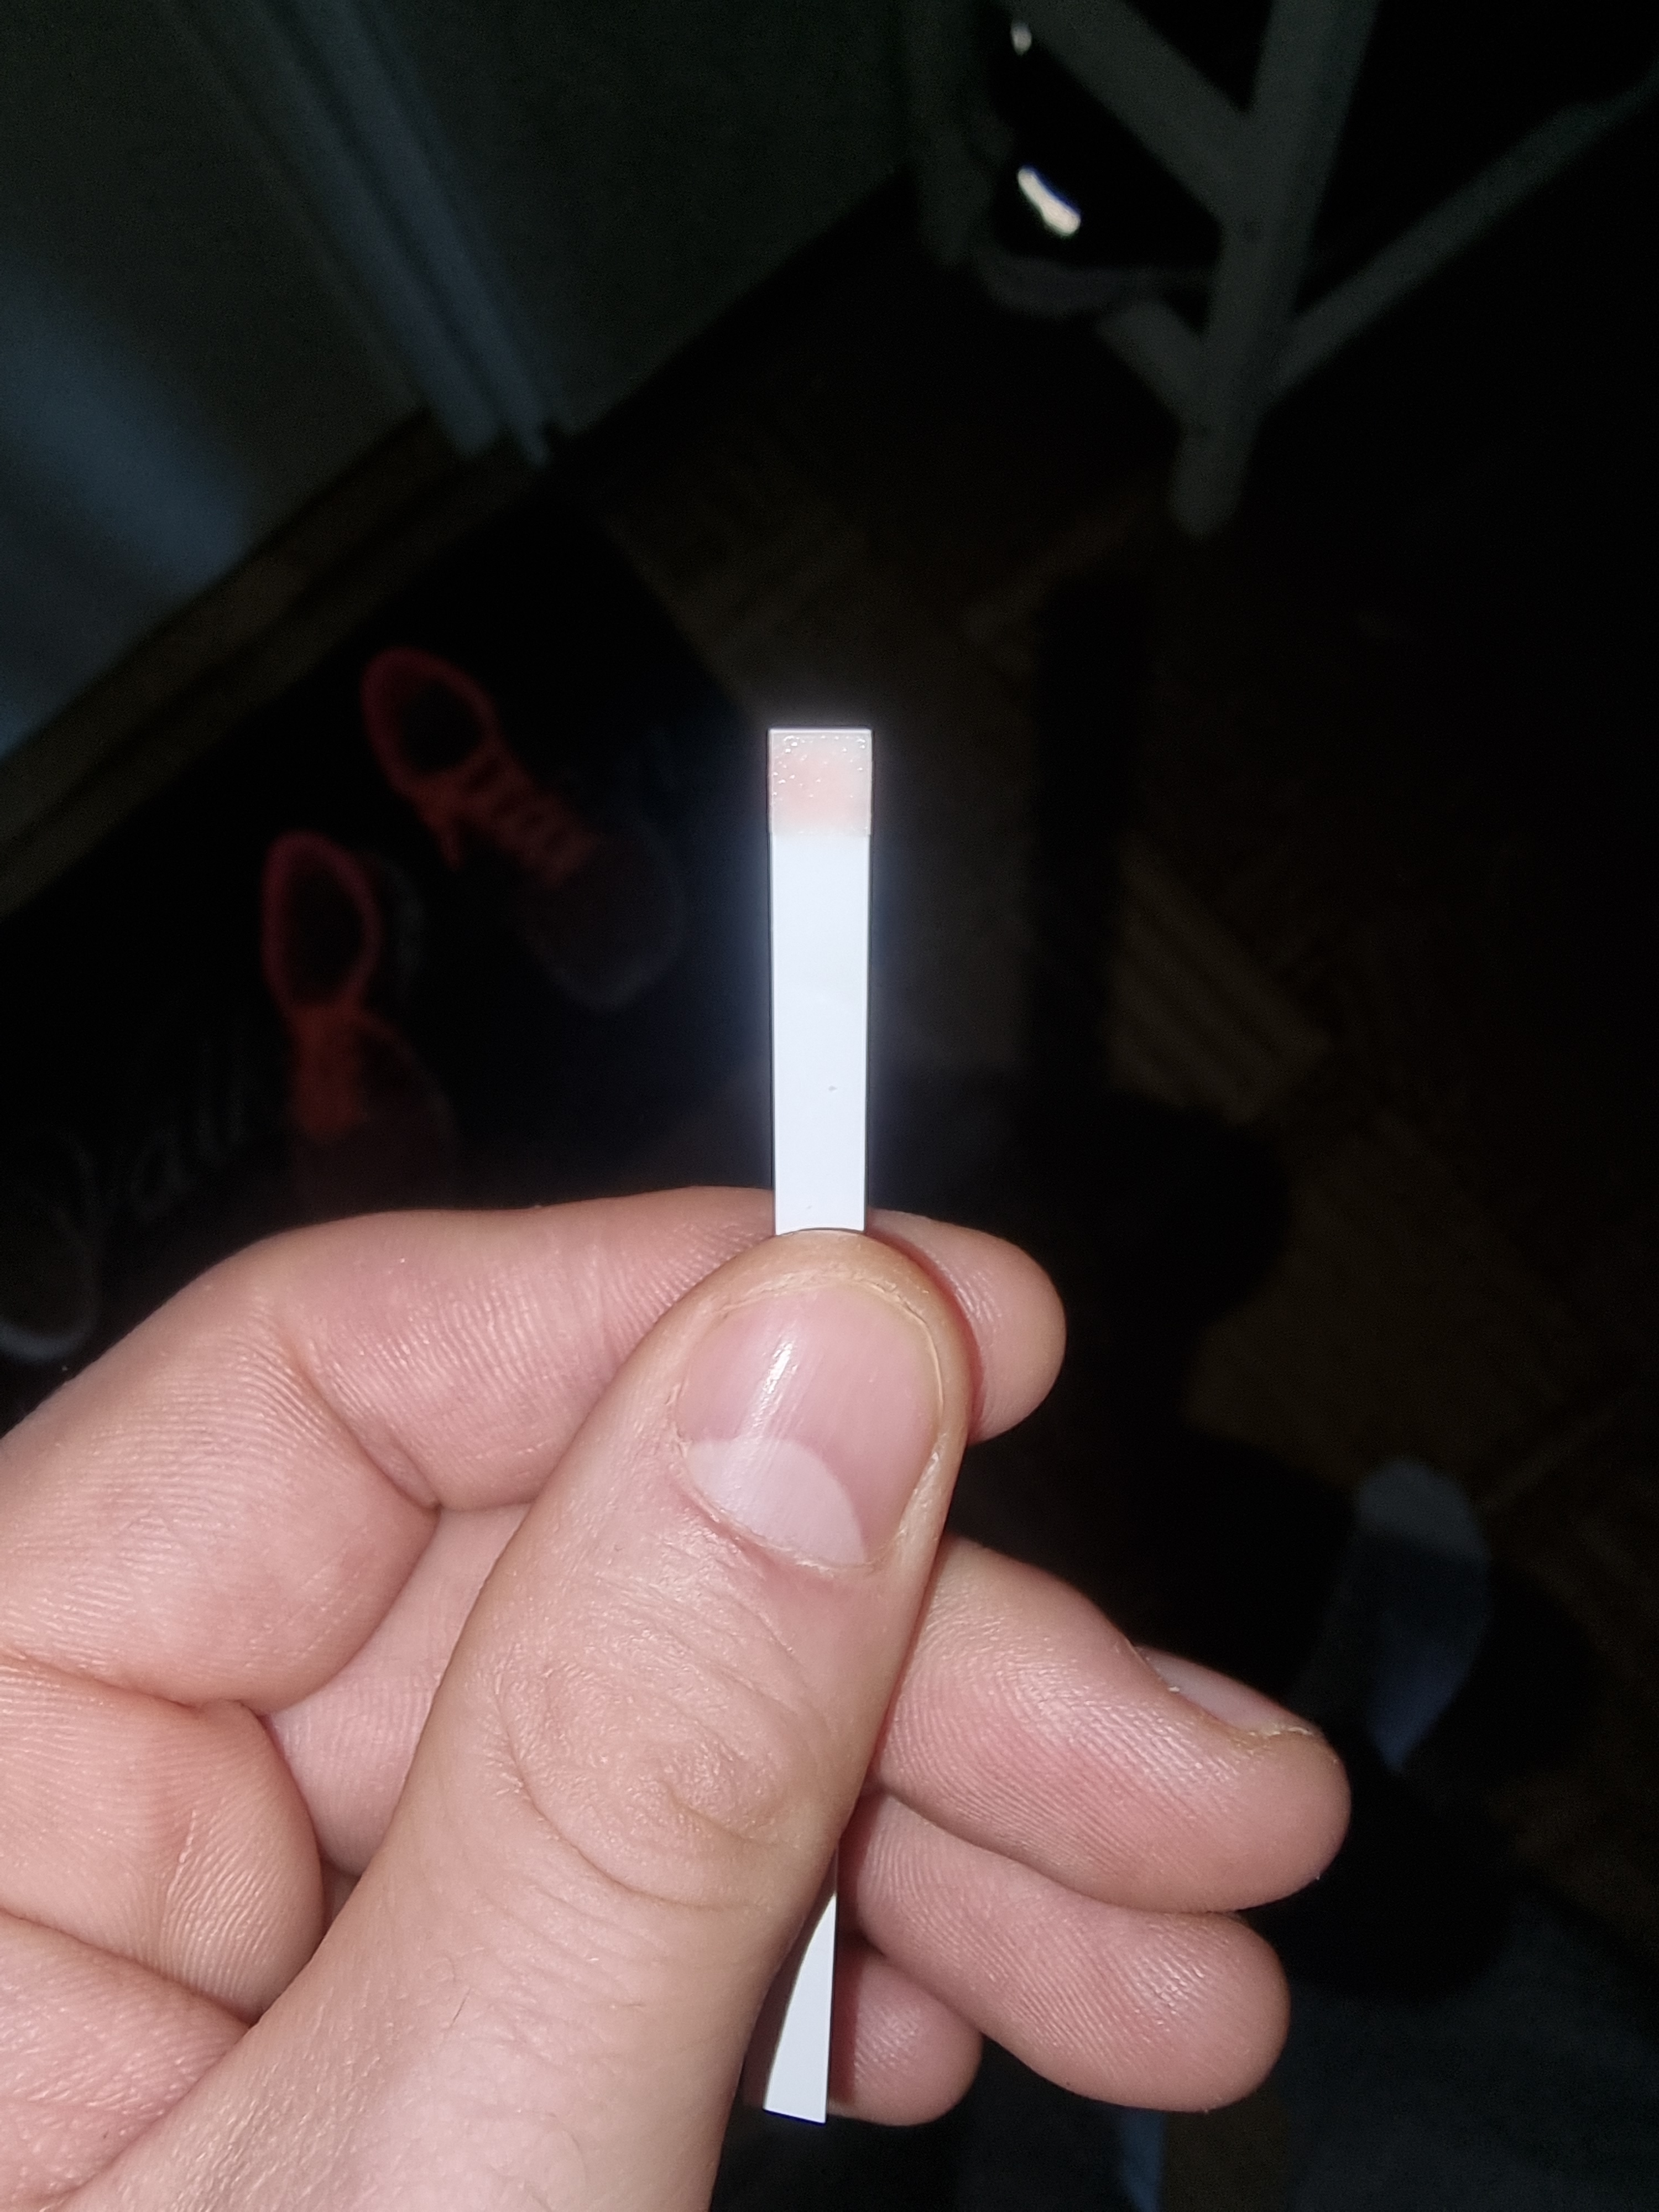keto-tip: (769, 730, 875, 831)
